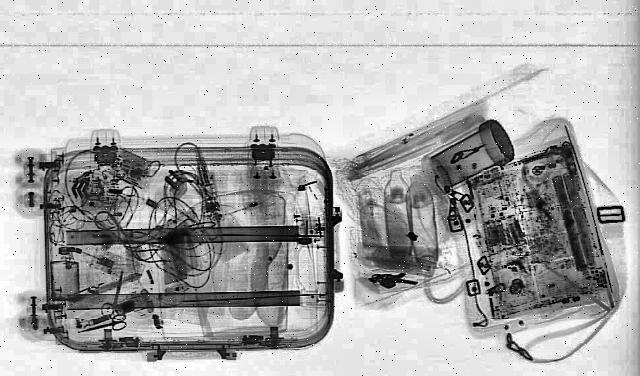Scissors: (72, 312, 136, 338)
